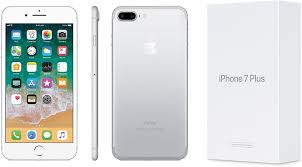iphone: (1, 1, 86, 164)
iphone7: (1, 1, 86, 164)
